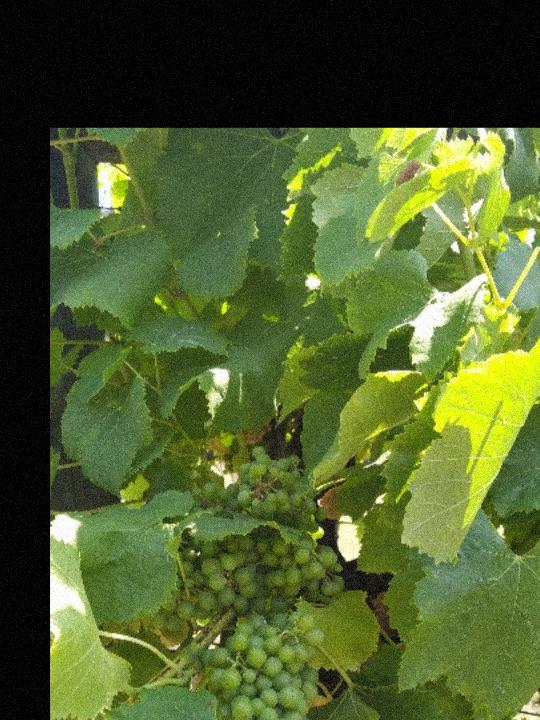grape: (147, 446, 371, 720)
